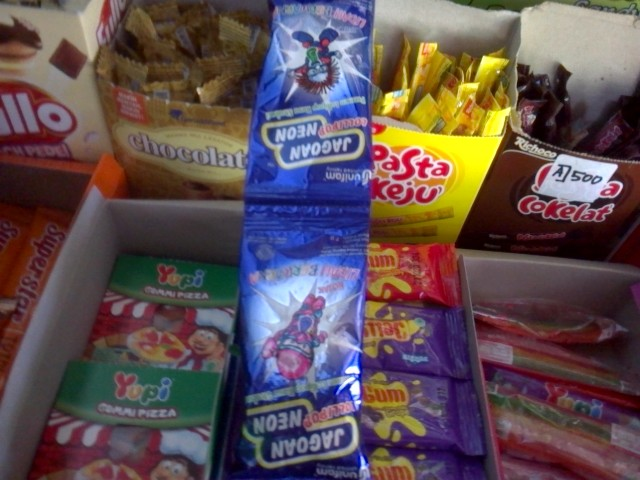jagoan neon: (232, 213, 373, 479), (244, 1, 374, 216)
